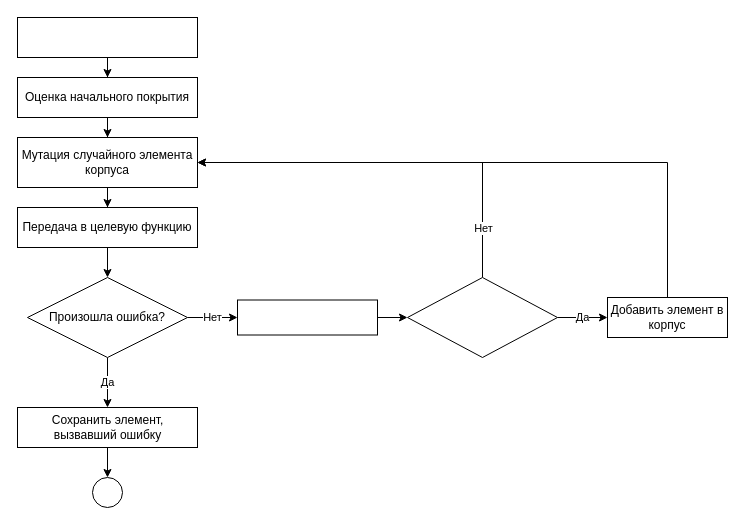
Image size: 745x525. Some labels were removed from this diagram. Each missing label, with the box of its shape:
Обработка элементов начального корпуса: (16, 16, 198, 58)
Оценка покрытия: (236, 299, 378, 335)
Увеличилось?: (406, 276, 558, 358)
